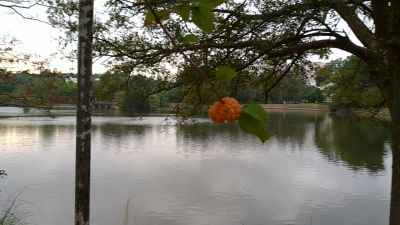eggs: (208, 96, 242, 126)
